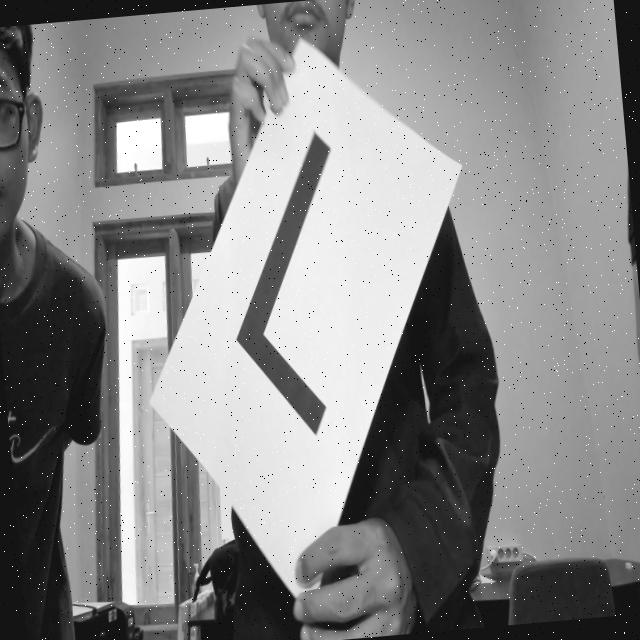l: (189, 116, 392, 453)
